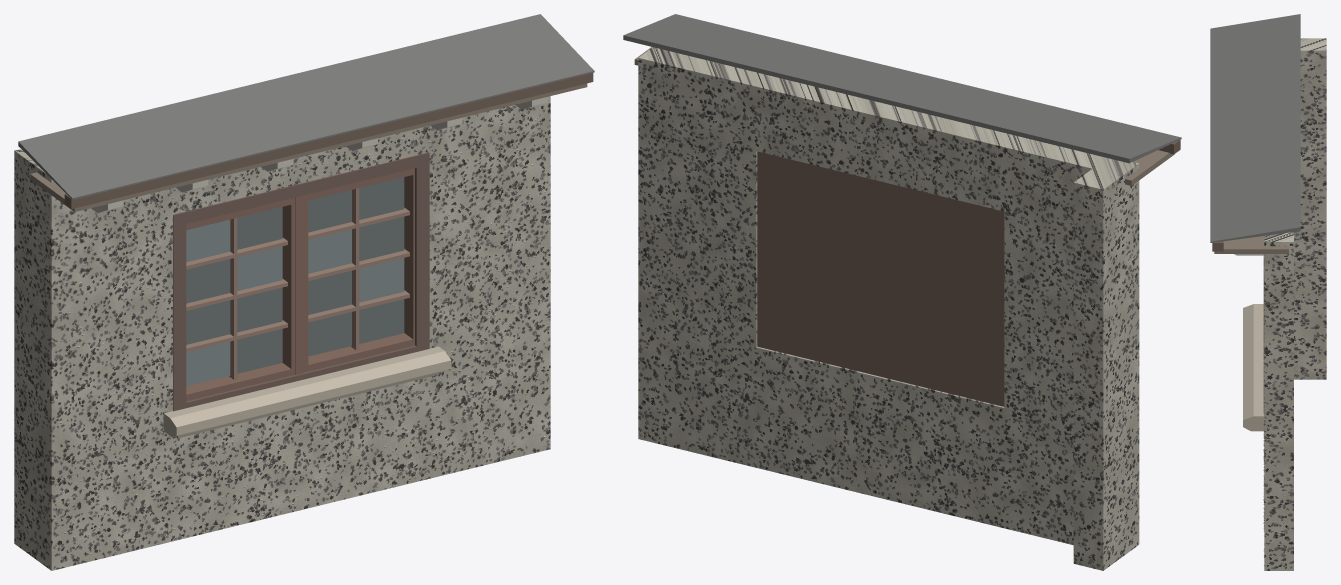
The model's file is gaolan-28-aggregate-casement-near.glb.
The picture shows the model from 3 angles, left to right: view 1: azimuth 30°, elevation 25°; view 2: azimuth 150°, elevation 25°; view 3: azimuth 270°, elevation 25°; orthographic projection. The views are drawn at different scales.
Parts seen in each view (by area): view 1: 皋兰路28号住宅庭院侧石粒墙与分格木窗; view 2: 皋兰路28号住宅庭院侧石粒墙与分格木窗; view 3: 皋兰路28号住宅庭院侧石粒墙与分格木窗.
Boxes of the visible parts, left/top/right/bottom form: 皋兰路28号住宅庭院侧石粒墙与分格木窗: left=14, top=14, right=594, bottom=570; 皋兰路28号住宅庭院侧石粒墙与分格木窗: left=623, top=14, right=1181, bottom=570; 皋兰路28号住宅庭院侧石粒墙与分格木窗: left=1210, top=14, right=1326, bottom=570.
Bounding box in the file's own units: 3.89 × 2.97 × 0.896.
12 materials, 1 textured.
